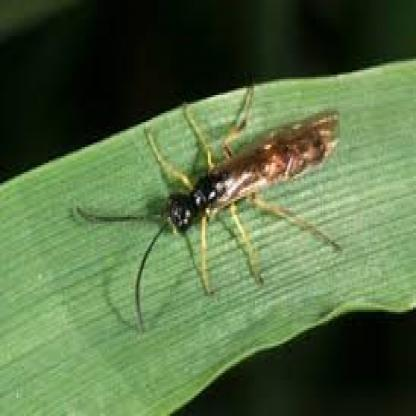sawfly: (79, 86, 353, 327)
